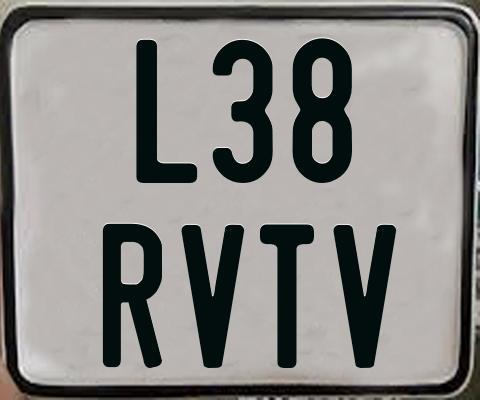3: (212, 39, 276, 188)
8: (291, 37, 354, 182)
L: (134, 40, 197, 184)
R: (100, 221, 165, 368)
T: (258, 221, 317, 367)
V: (181, 225, 248, 370), (333, 223, 397, 371)
